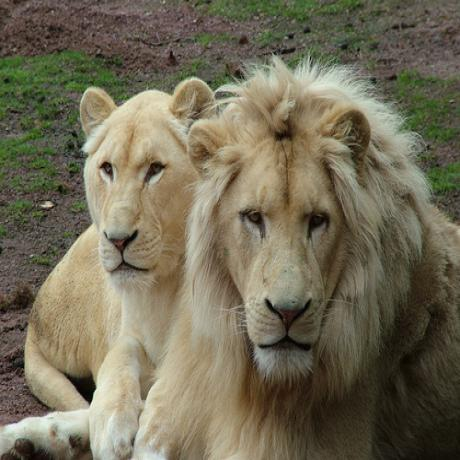Lion: (190, 62, 460, 460), (23, 75, 218, 447)
